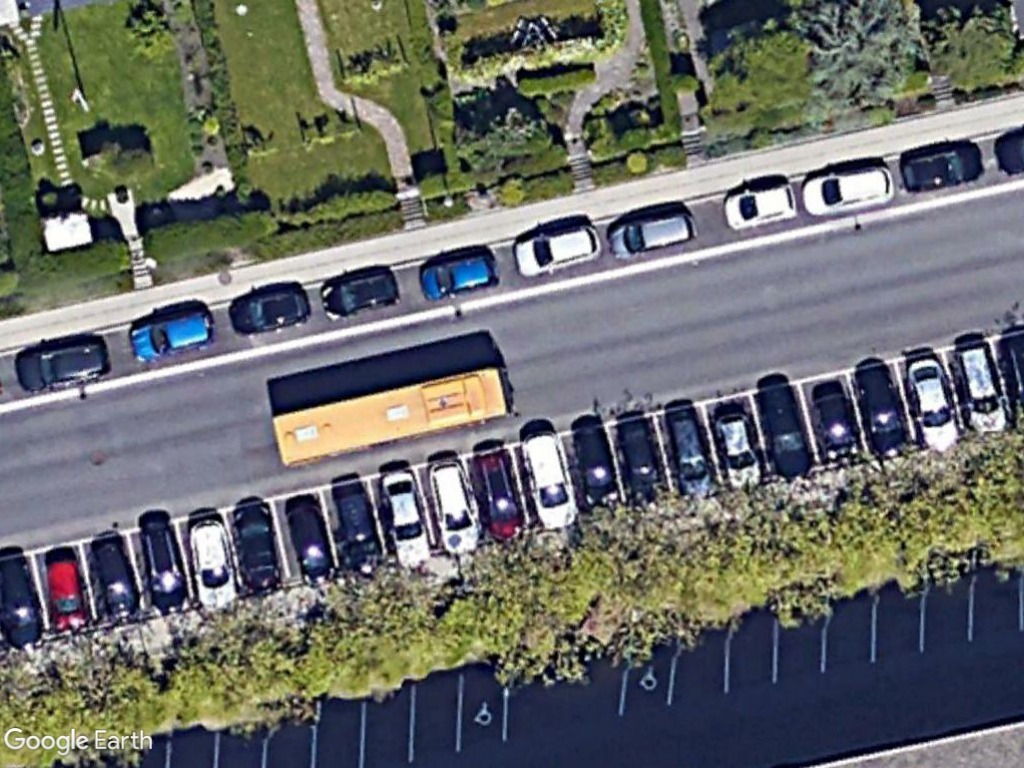bus: (267, 365, 524, 471)
car: (903, 346, 969, 459), (850, 356, 915, 465), (753, 373, 816, 482), (11, 330, 115, 394), (183, 513, 246, 618), (518, 425, 578, 533), (135, 514, 193, 623), (795, 158, 901, 217), (952, 338, 1012, 440), (86, 530, 146, 632), (379, 467, 440, 566), (471, 436, 527, 543), (804, 380, 868, 473), (232, 500, 291, 600), (508, 218, 606, 278), (427, 445, 479, 558), (659, 402, 719, 499), (566, 421, 625, 519), (124, 304, 220, 364), (896, 139, 990, 199), (311, 263, 405, 323), (283, 491, 338, 591), (616, 414, 672, 510), (39, 548, 96, 641), (603, 205, 701, 259), (416, 244, 504, 301), (709, 406, 766, 493), (335, 476, 386, 572), (228, 282, 314, 337), (719, 176, 803, 231)
